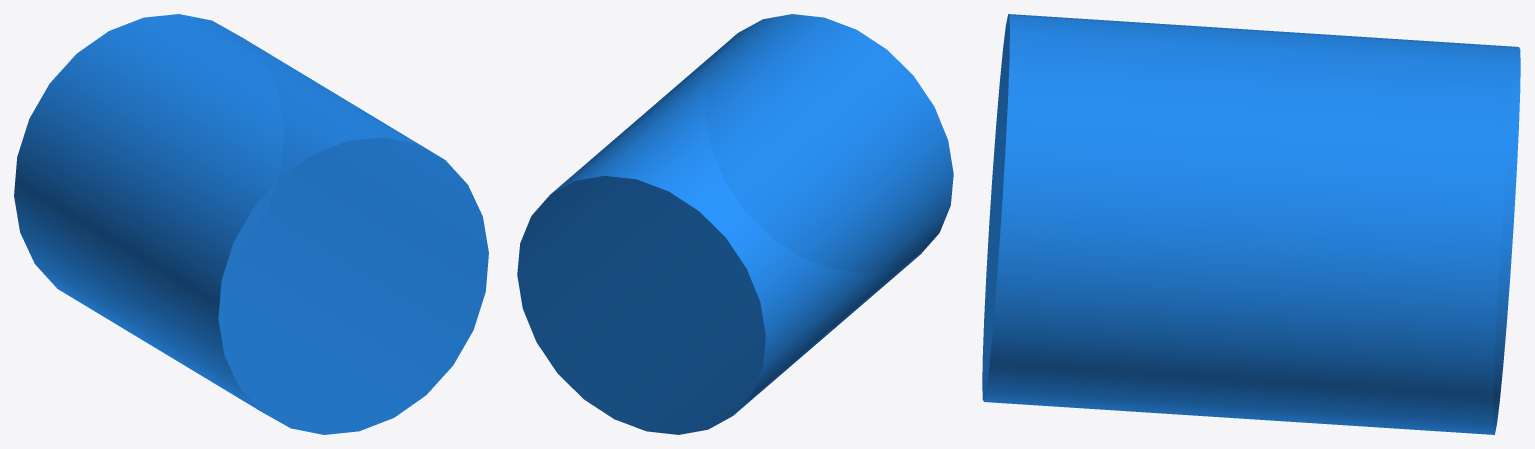
File: Event_195102316_MET.fbx
3 renders of one model, left to right at view 1: azimuth 30°, elevation 25°; view 2: azimuth 150°, elevation 25°; view 3: azimuth 270°, elevation 25°, orthographic. The views are drawn at different scales.
Visible parts, largest first — view 1: Model; view 2: Model; view 3: Model.
Boxes of the visible parts, bbox=[...] form: Model: bbox=[14, 14, 488, 434]; Model: bbox=[517, 14, 953, 434]; Model: bbox=[982, 14, 1520, 434].
Bounding box in the file's own units: 0.04 × 0.0436 × 0.0552.
